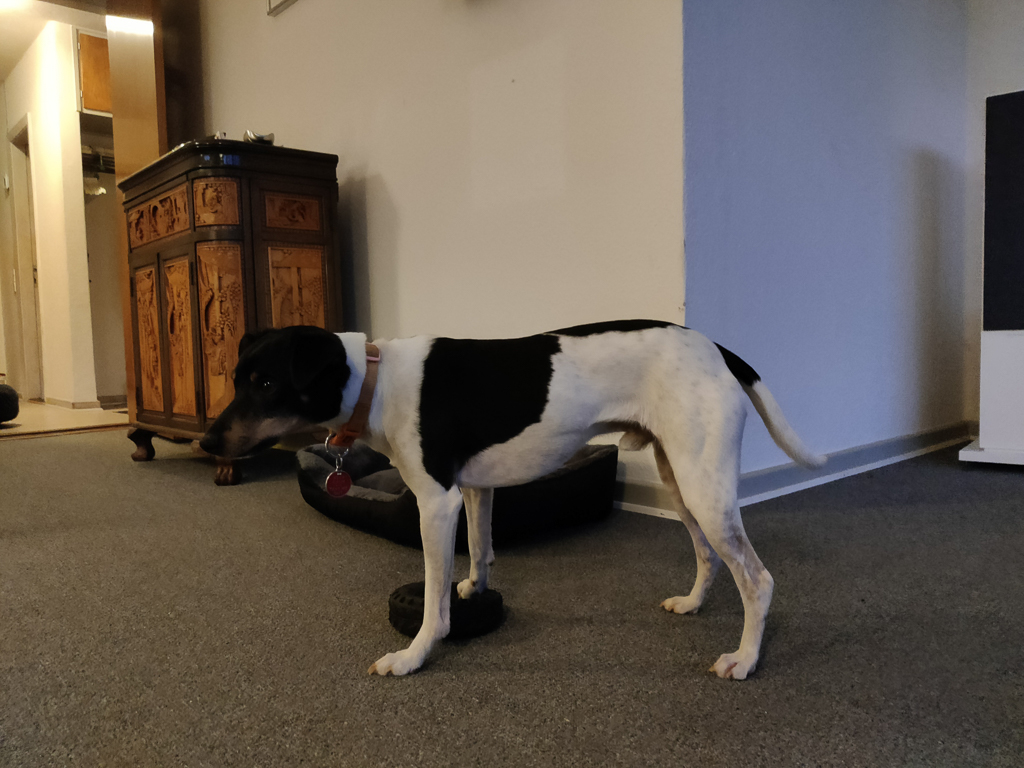Dog: (189, 298, 839, 692)
